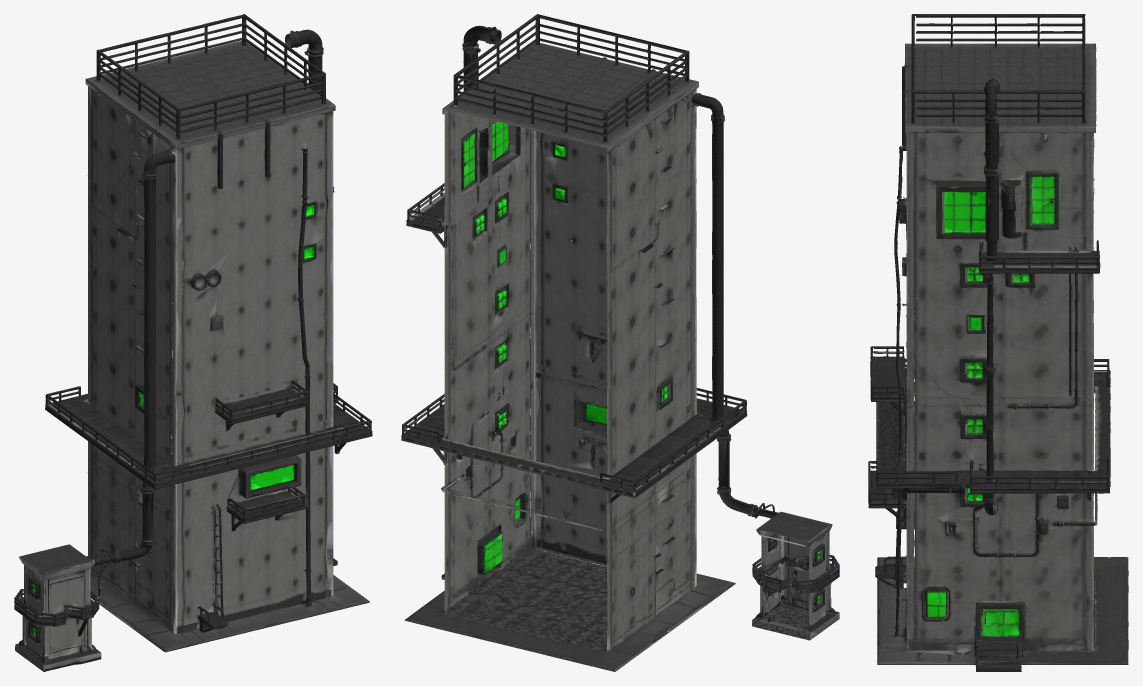
The model's file is reactor_block.glb.
The picture shows the model from 3 angles, left to right: view 1: azimuth 30°, elevation 25°; view 2: azimuth 150°, elevation 25°; view 3: azimuth 270°, elevation 25°; orthographic projection. The views are drawn at different scales.
Bounding box in the file's own units: 1.24 × 1.9 × 0.7808.
1 material, 1 textured.
